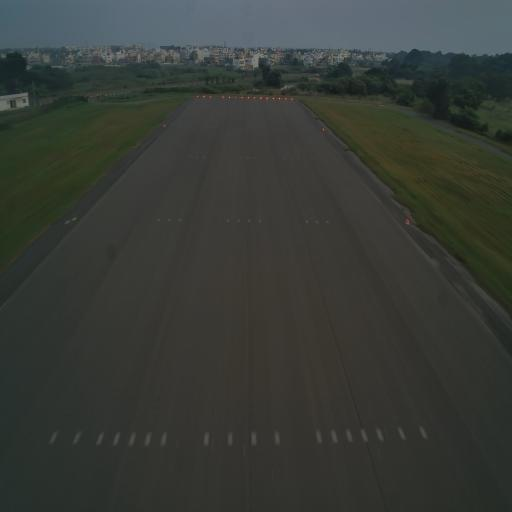off: (71, 428, 85, 452), (415, 420, 430, 442), (223, 427, 237, 449), (268, 426, 282, 448), (327, 424, 339, 448), (374, 424, 386, 446), (142, 429, 153, 452), (94, 428, 105, 449), (248, 426, 258, 449), (398, 421, 408, 444), (344, 426, 354, 448), (111, 431, 121, 452), (356, 424, 367, 443), (315, 428, 324, 449), (128, 428, 137, 448), (202, 429, 211, 448), (50, 430, 60, 446), (160, 430, 168, 450), (72, 214, 78, 224), (324, 216, 330, 226), (246, 216, 252, 225), (156, 215, 161, 225), (236, 215, 241, 225), (315, 217, 320, 226), (178, 216, 183, 224), (225, 217, 230, 225), (257, 217, 262, 225), (305, 217, 309, 227), (166, 217, 171, 223)
on: (406, 217, 412, 228)
